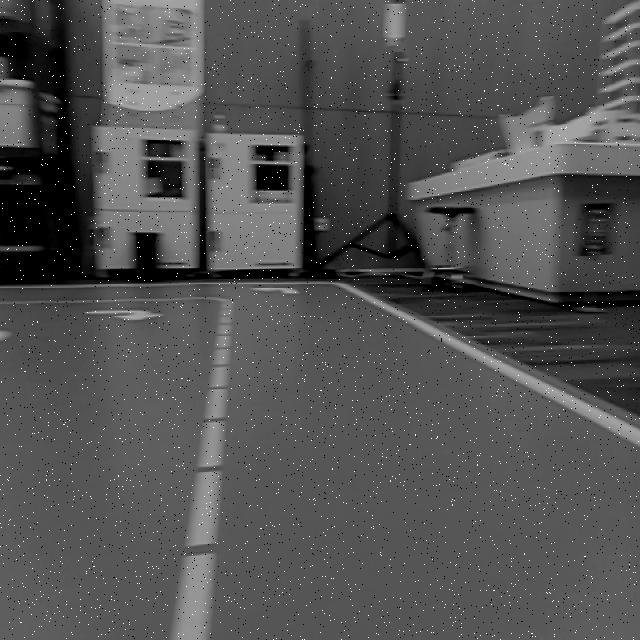left_lane: (175, 303, 234, 639)
right_lane: (338, 280, 640, 446)
